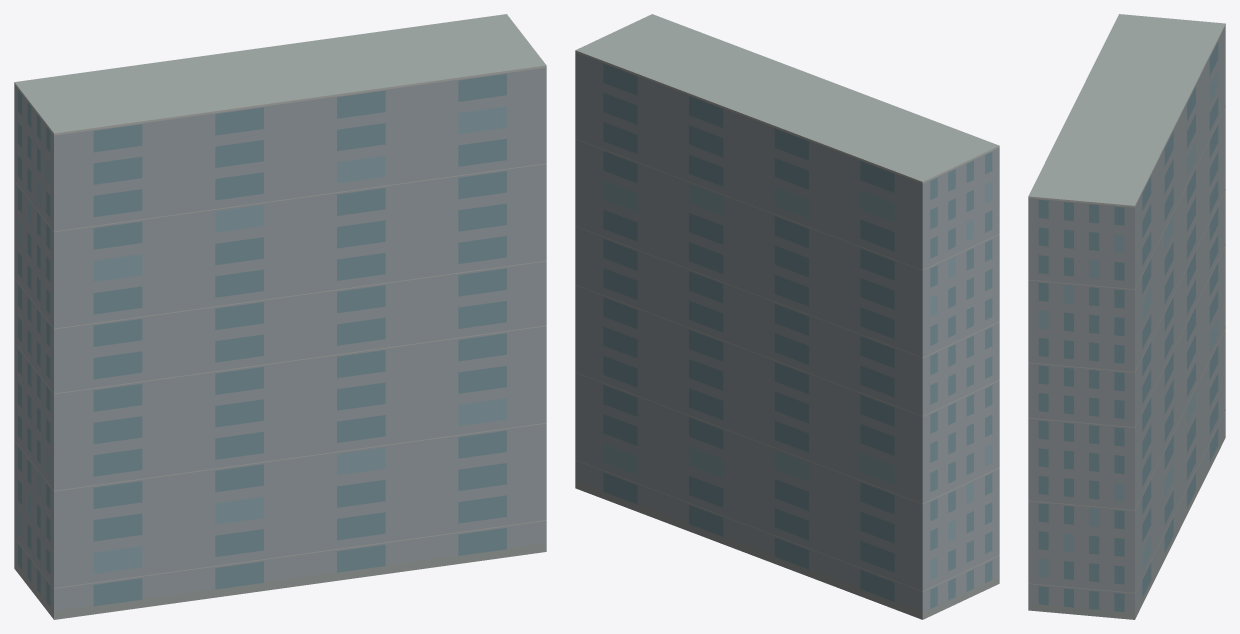
The model's file is residential-e5fae555-3bca-4fe6-8310-49c12787cd92.glb.
The picture shows the model from 3 angles, left to right: view 1: azimuth 30°, elevation 25°; view 2: azimuth 150°, elevation 25°; view 3: azimuth 270°, elevation 25°; orthographic projection. The views are drawn at different scales.
Visible parts, largest first — view 1: residential-e5fae555-3bca-4fe6-8310-49c12787cd92.tmp; view 2: residential-e5fae555-3bca-4fe6-8310-49c12787cd92.tmp; view 3: residential-e5fae555-3bca-4fe6-8310-49c12787cd92.tmp.
Part boxes in pixels (x1,y1,x2,y2): residential-e5fae555-3bca-4fe6-8310-49c12787cd92.tmp: [14, 14, 546, 619]; residential-e5fae555-3bca-4fe6-8310-49c12787cd92.tmp: [575, 14, 999, 619]; residential-e5fae555-3bca-4fe6-8310-49c12787cd92.tmp: [1028, 14, 1225, 619].
Bounding box in the file's own units: 56.67 × 57 × 24.66.
